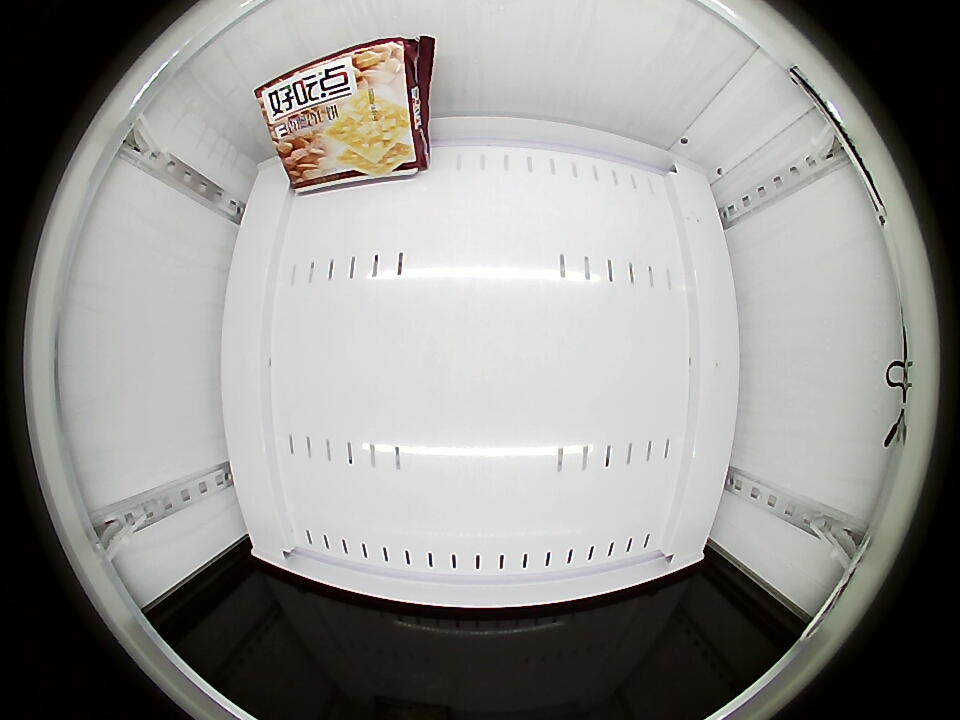haochidian: (255, 38, 428, 178)
